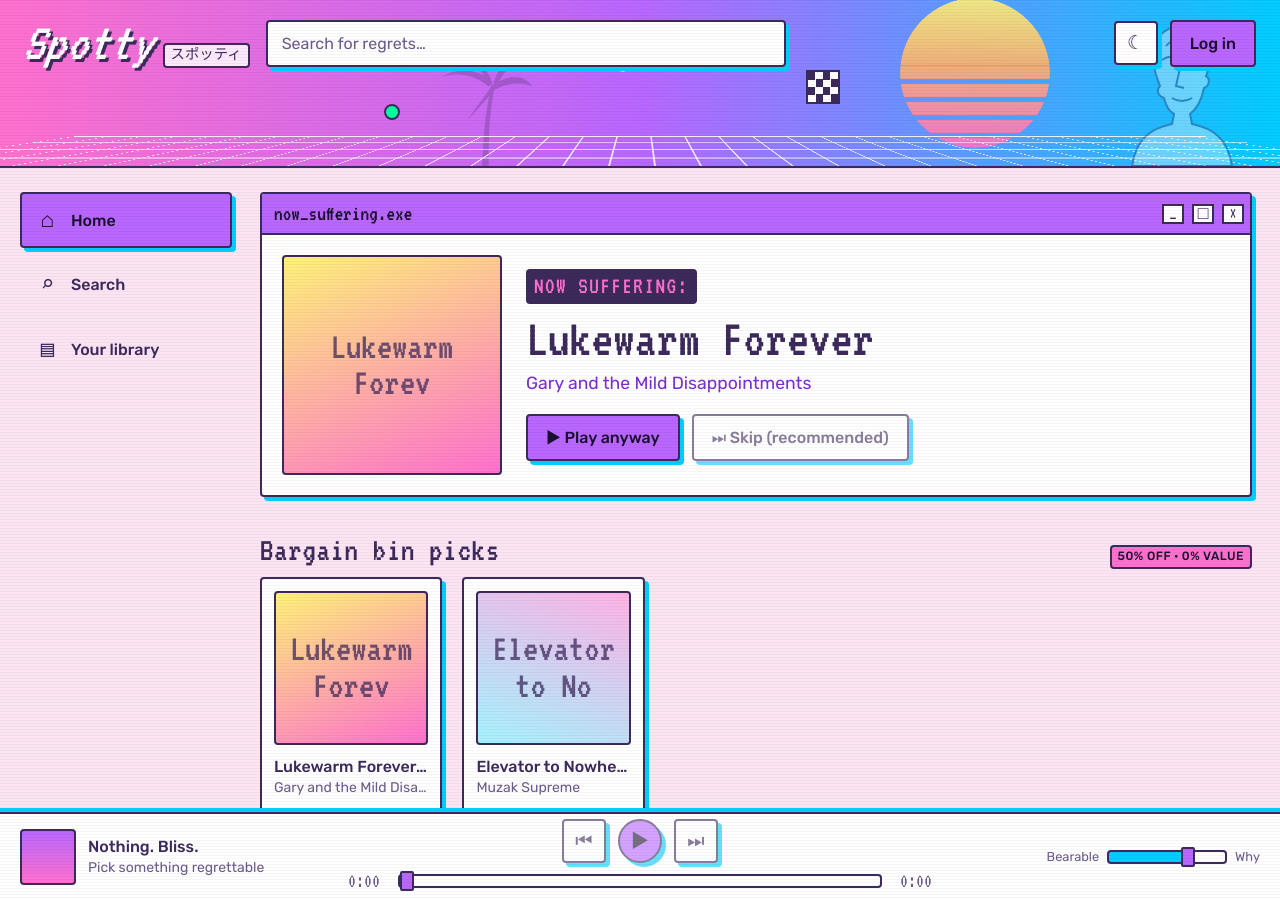
Test case: asks anonymous users to log in before playing
Click the button with test id "hero-play" at (603, 438), box [526, 414, 680, 461]
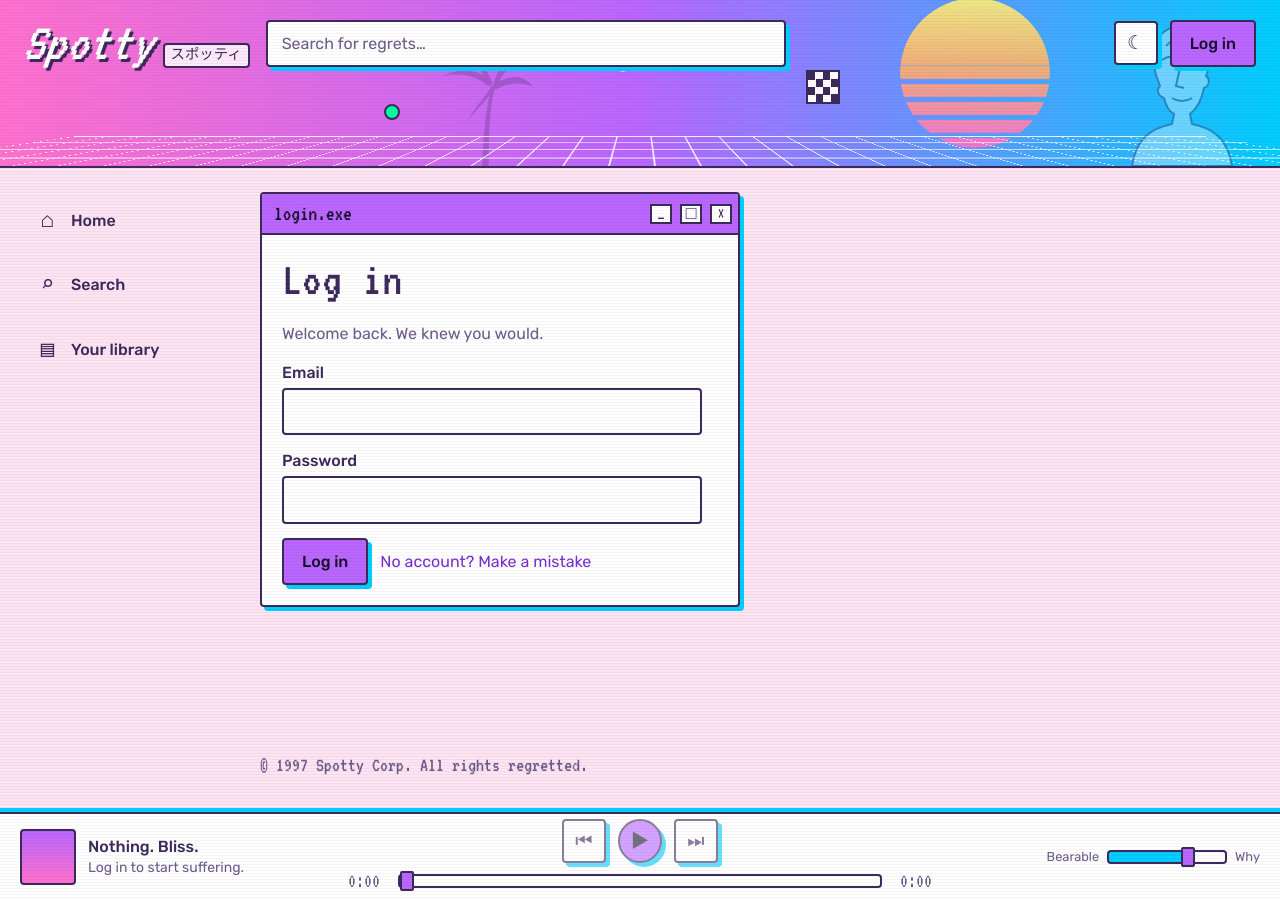
Check: the heading "Log in" is shown, box [282, 256, 403, 304]
